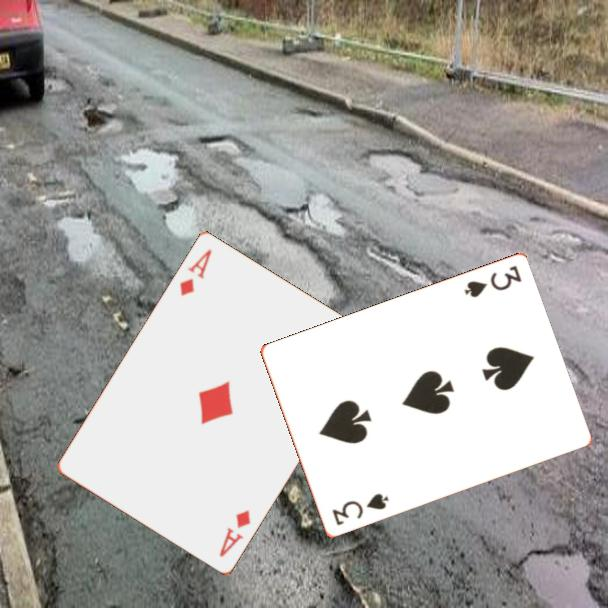d01: (176, 246, 215, 300), (216, 506, 254, 560)
s03: (328, 490, 392, 529), (461, 262, 524, 301)
